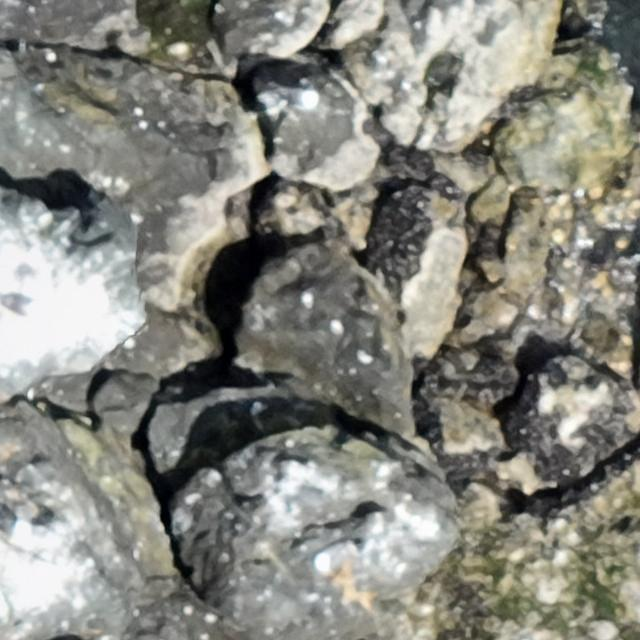umineko: (317, 538, 361, 570), (1, 286, 41, 318), (272, 80, 319, 107), (0, 506, 32, 537)
